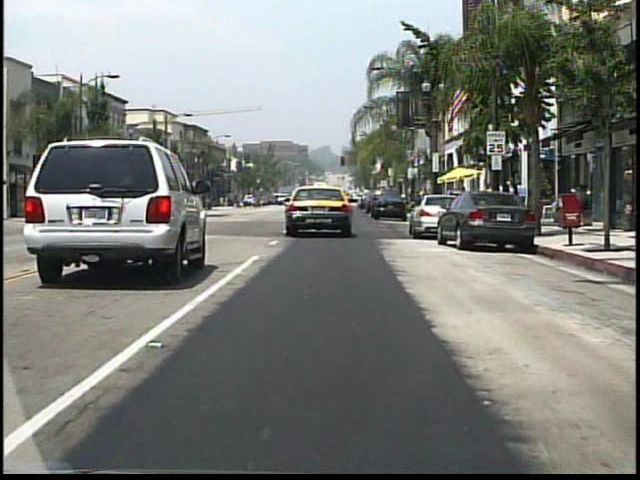person: (501, 176, 520, 218), (513, 179, 529, 221), (494, 179, 508, 218), (506, 182, 518, 217), (273, 190, 280, 206)
